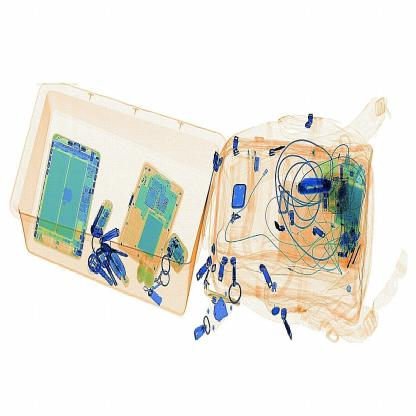scissors: (285, 170, 337, 204)
